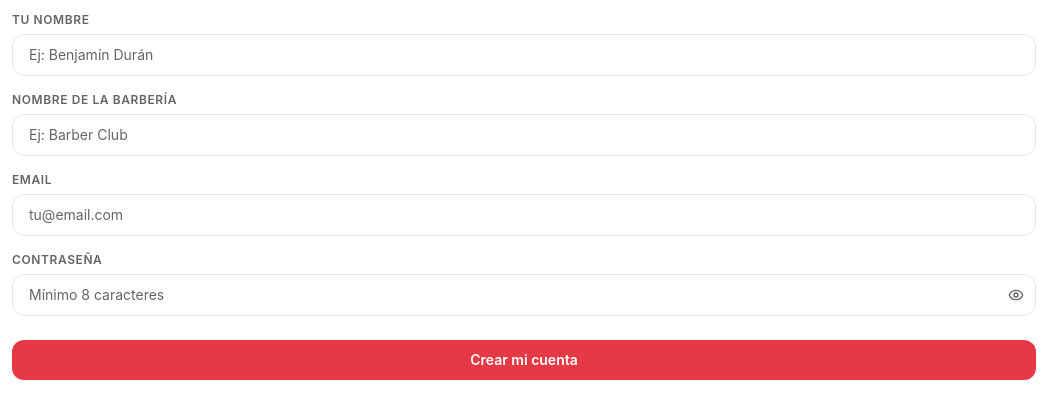
Test: RegisterForm › muestra preview de URL al escribir nombre de barbería
Type "Mi Barbería" into the field with placeholder "Ej: Barber Club". click: x=524, y=135
box: 12,114 -> 1036,156
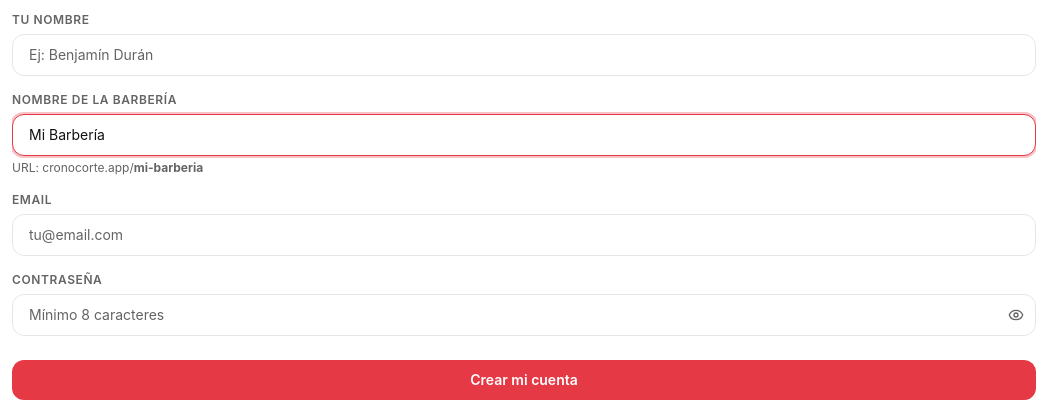
Expected: the text "mi-barberia" is shown, 134,160 -> 203,175
